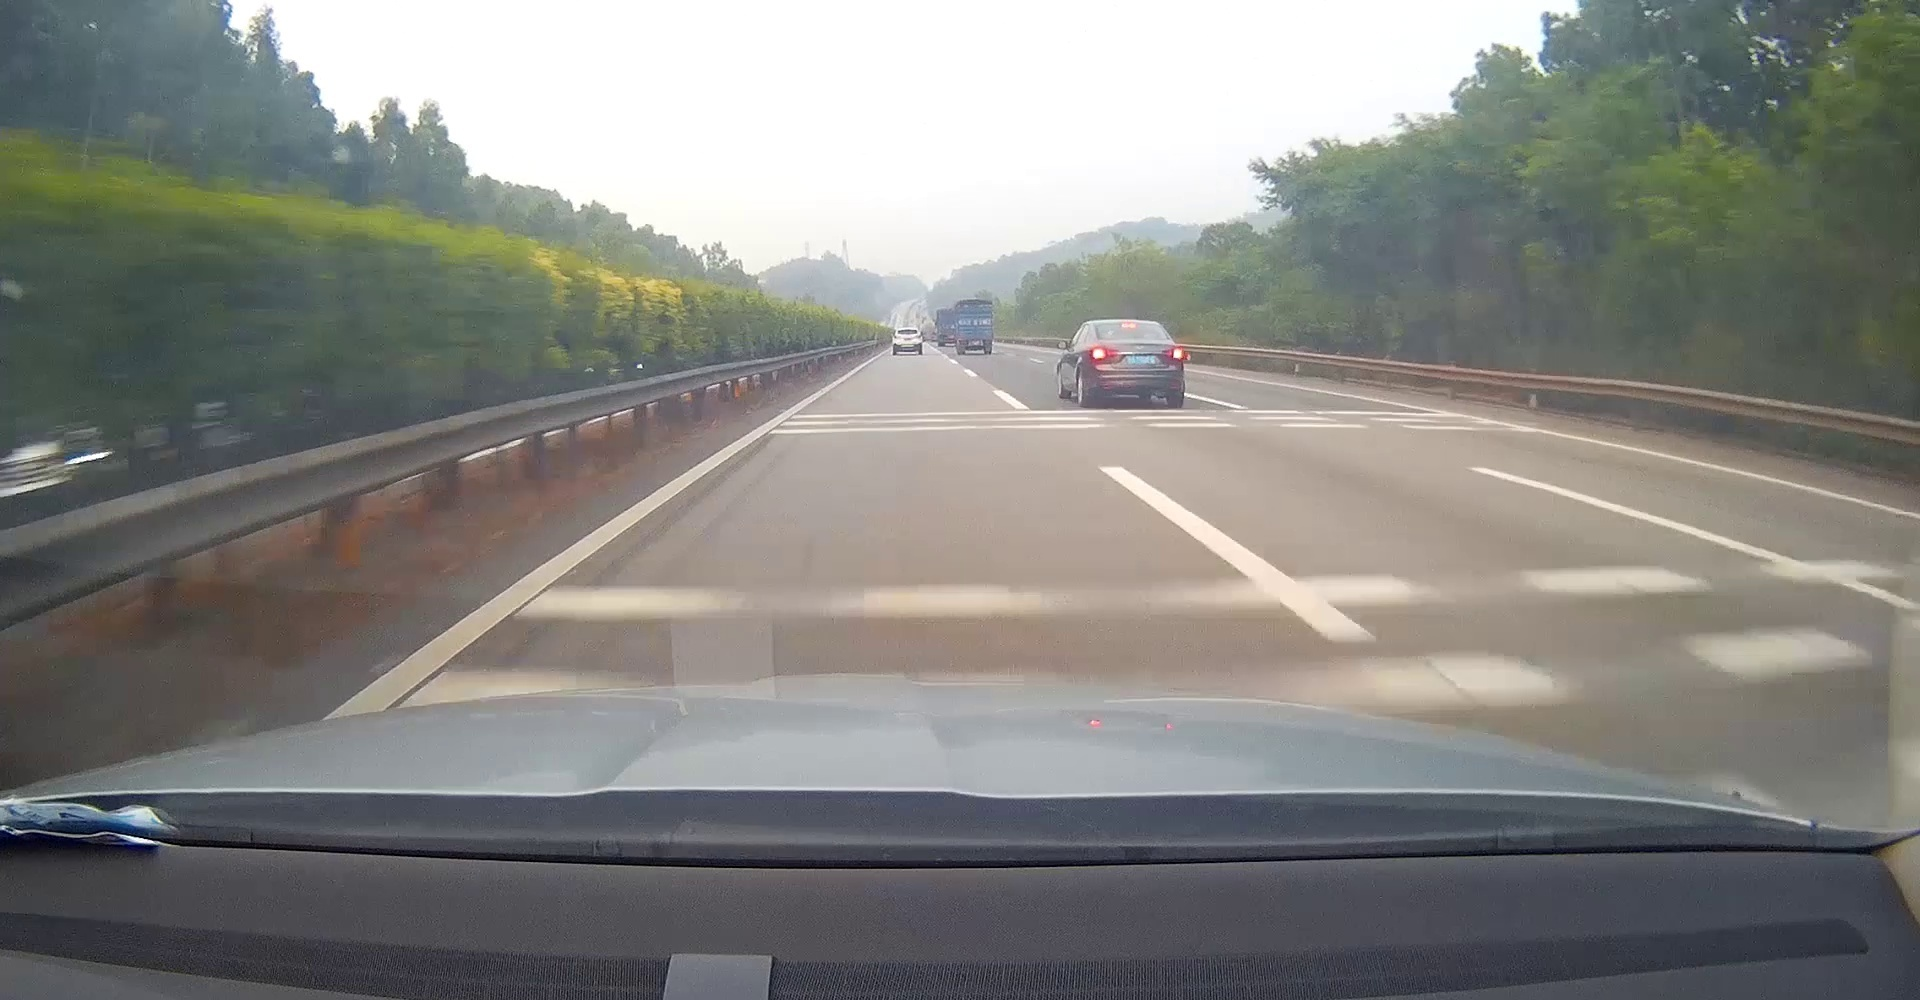L_light: (1092, 348, 1117, 360), (961, 341, 968, 344), (894, 336, 899, 339)
R_light: (1164, 348, 1182, 359), (916, 335, 922, 339), (985, 341, 990, 344)
T_light: (1123, 324, 1138, 327), (971, 301, 979, 305), (905, 329, 910, 331)
day-brake: (1090, 319, 1185, 409)
day-no: (957, 299, 993, 354), (891, 327, 923, 355)
